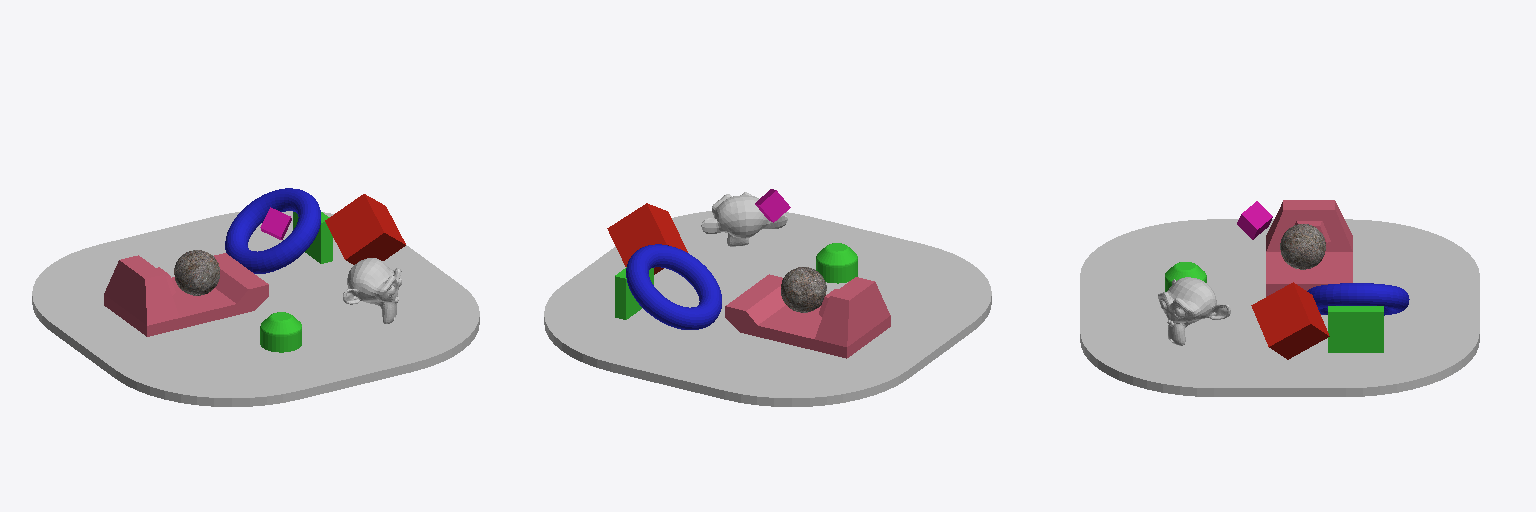
3 views of the same model, side by side, from view 1: azimuth 30°, elevation 25°; view 2: azimuth 150°, elevation 25°; view 3: azimuth 270°, elevation 25° (orthographic).
Visible parts, largest first — view 1: Plane, Cube.003, Torus, Cube.001, Suzanne, Icosphere, Cylinder, Cube, Cube.002; view 2: Plane, Cube.003, Torus, Cube.001, Suzanne, Icosphere, Cylinder, Cube, Cube.002; view 3: Plane, Cube.003, Cube.001, Suzanne, Cube, Torus, Icosphere, Cube.002, Cylinder.
Boxes of the visible parts, box(x1,y1,x2,y2) form: Plane: box(32, 211, 479, 406); Cube.003: box(104, 253, 268, 336); Torus: box(225, 188, 320, 273); Cube.001: box(325, 194, 405, 264); Suzanne: box(343, 258, 401, 323); Icosphere: box(174, 250, 219, 295); Cylinder: box(260, 312, 301, 352); Cube: box(293, 212, 332, 263); Cube.002: box(260, 207, 291, 239); Plane: box(544, 211, 991, 406); Cube.003: box(725, 274, 890, 358); Torus: box(626, 244, 721, 329); Cube.001: box(607, 203, 687, 274); Suzanne: box(701, 192, 787, 246); Icosphere: box(781, 267, 826, 312); Cylinder: box(816, 243, 857, 283); Cube: box(615, 267, 653, 319); Cube.002: box(755, 189, 790, 222); Plane: box(1080, 219, 1479, 396); Cube.003: box(1266, 200, 1352, 296); Cube.001: box(1251, 282, 1329, 359); Suzanne: box(1158, 277, 1230, 345); Cube: box(1328, 306, 1383, 352); Torus: box(1307, 283, 1409, 315); Icosphere: box(1280, 224, 1325, 269); Cube.002: box(1237, 201, 1272, 239); Cylinder: box(1165, 262, 1206, 291).
Bounding box in the file's own units: 5.57 × 1.74 × 5.57.
Materials: 8 (1 with a texture image).